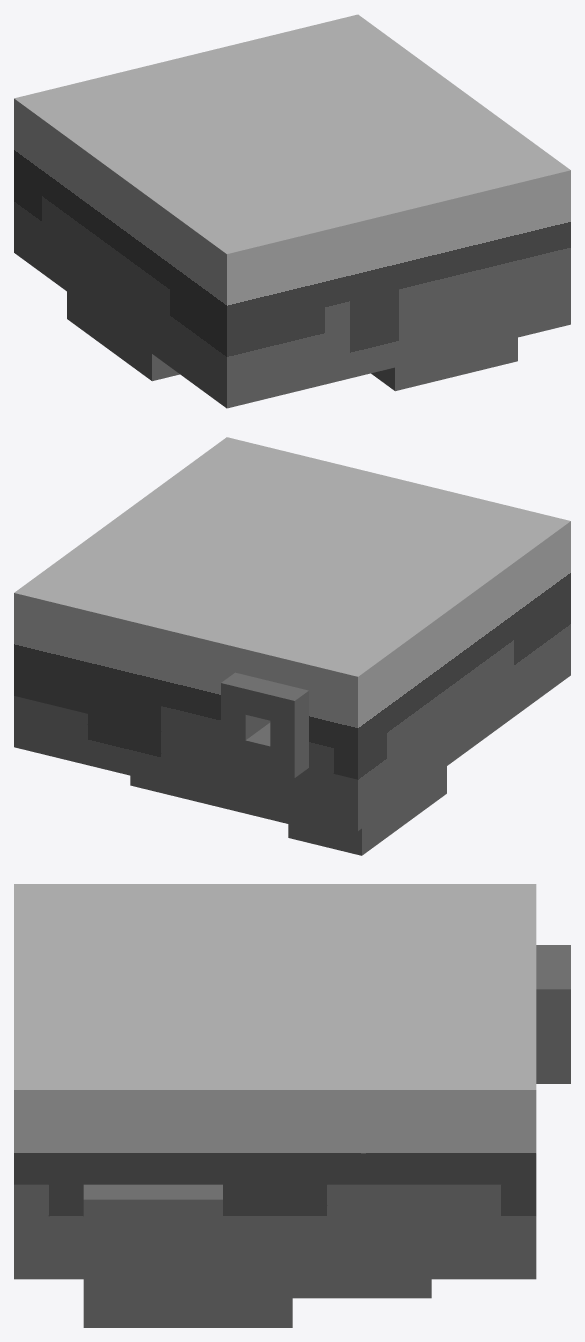
Rendered from Platform.dae.
The picture shows the model from 3 angles, top to bottom: view 1: azimuth 30°, elevation 25°; view 2: azimuth 150°, elevation 25°; view 3: azimuth 270°, elevation 25°; orthographic projection. The views are drawn at different scales.
Visible parts, largest first — view 1: Matrix; view 2: Matrix; view 3: Matrix.
Boxes of the visible parts, x1,y1,x2,y2 form: Matrix: (14,14,570,408); Matrix: (14,437,570,855); Matrix: (14,884,570,1327).
Size of the model in its own units: 15 by 8 by 16.
1 material, 1 textured.
